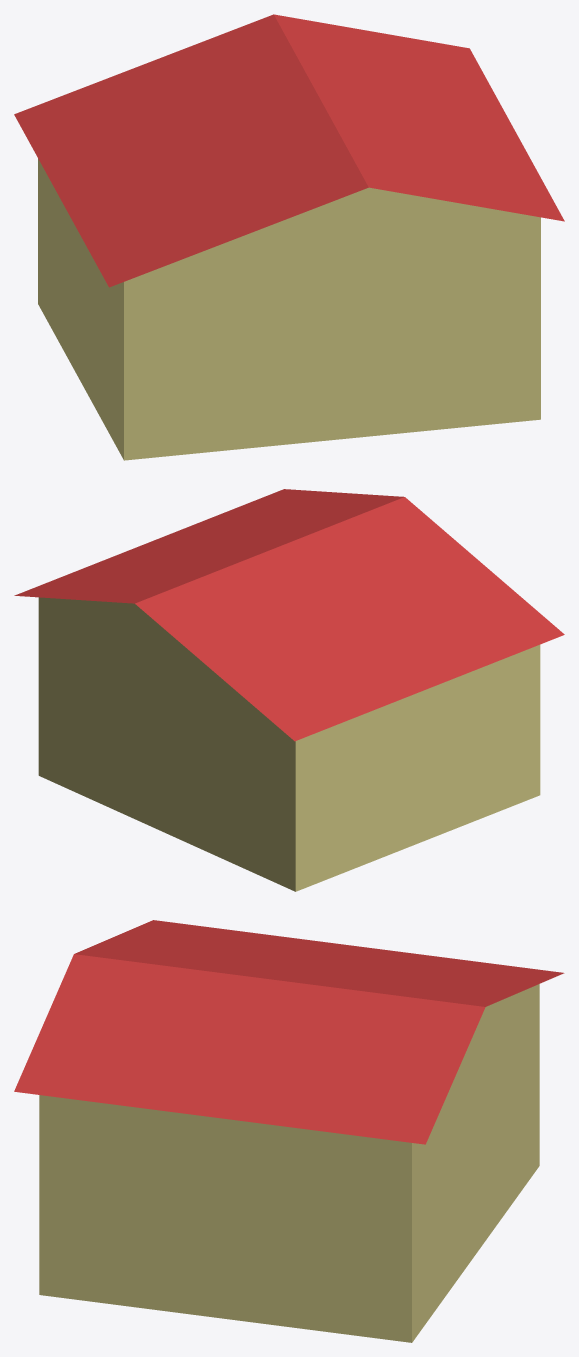
3 renders of one model, top to bottom at view 1: azimuth 30°, elevation 25°; view 2: azimuth 150°, elevation 25°; view 3: azimuth 270°, elevation 25°, orthographic. The views are drawn at different scales.
Bounding box in the file's own units: 21.49 × 20.3 × 10.71.
